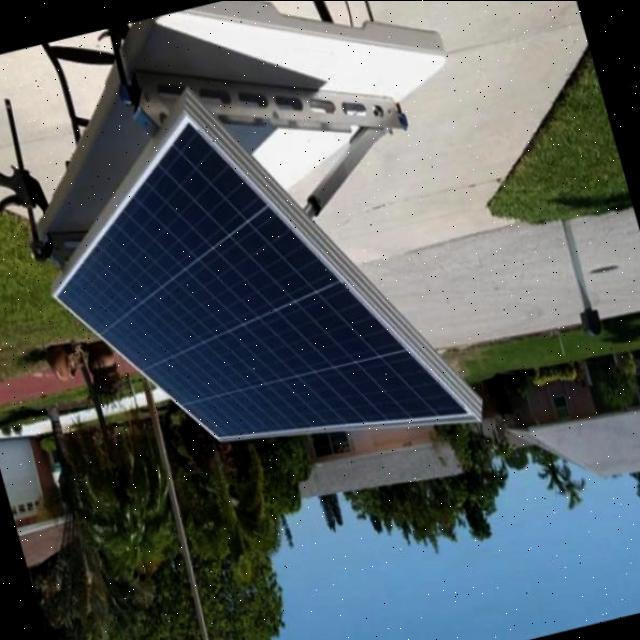Normal Solar Panel: (10, 59, 484, 508)
